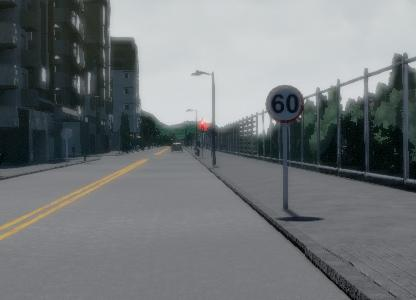Speed_60: (265, 84, 307, 124)
